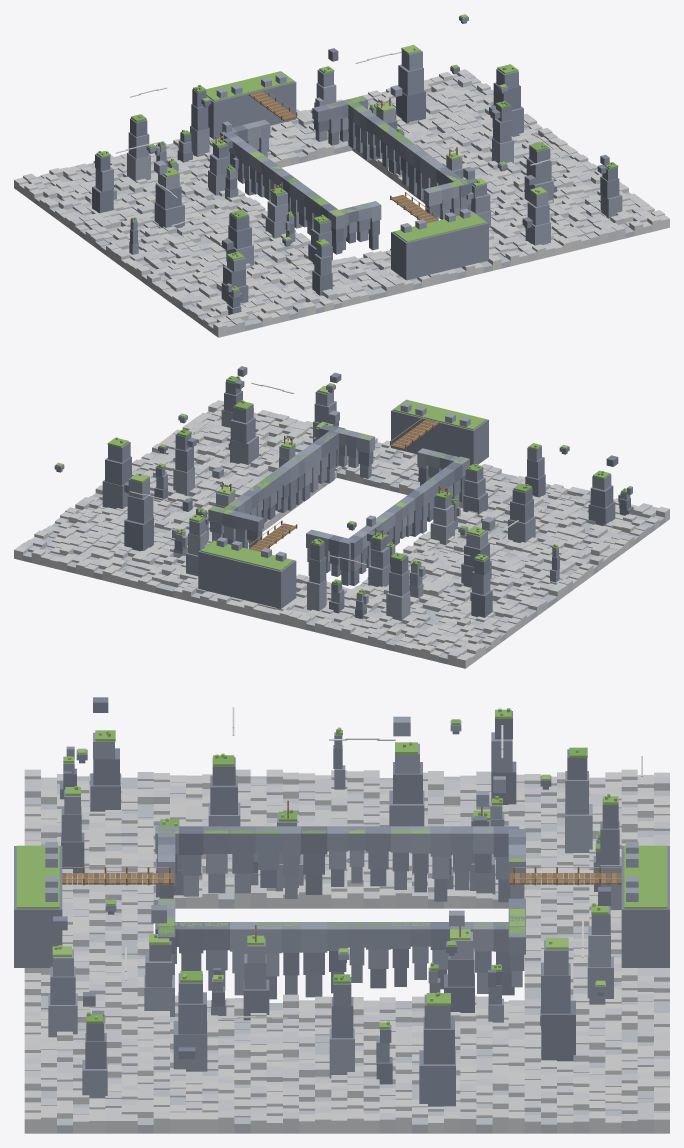
File: windswept_cliffs_outer_arena_roblox.glb
The picture shows the model from 3 angles, top to bottom: view 1: azimuth 30°, elevation 25°; view 2: azimuth 150°, elevation 25°; view 3: azimuth 270°, elevation 25°; orthographic projection. The views are drawn at different scales.
Visible parts, largest first — view 1: CloudSW_001, Cliff, CloudNW_001, CloudSE_001, CloudNE_001, Plateau_002, Plateau_001, Spire_010, Spire_011, Spire_016, Spire_007, Spire_018 (+16 smaller); view 2: CloudNW_001, Cliff, CloudSW_001, CloudNE_001, CloudSE_001, Plateau_001, Plateau_002, Spire_010, Spire_018, Spire_014, Spire_007, Spire_013 (+17 smaller); view 3: CloudSE_001, CloudNE_001, Cliff, CloudSW_001, CloudNW_001, Plateau_001, Plateau_002, Spire_010, Spire_018, Spire_014, Spire_011, Spire_007 (+20 smaller).
Part boxes in pixels (box(x1,y1,x2,y2)): CloudSW_001: box(116, 218, 439, 337); Cliff: box(220, 96, 477, 254); CloudNW_001: box(14, 137, 281, 262); CloudSE_001: box(408, 144, 669, 283); CloudNE_001: box(269, 69, 567, 191); Plateau_002: box(391, 208, 488, 280); Plateau_001: box(206, 71, 296, 139); Spire_010: box(396, 45, 425, 123); Spire_011: box(154, 160, 184, 228); Spire_016: box(522, 175, 550, 245); Spire_007: box(127, 114, 150, 181); Spire_018: box(489, 64, 523, 136); CloudNW_001: box(244, 545, 567, 668); Cliff: box(208, 424, 469, 585); CloudSW_001: box(407, 464, 669, 593); CloudNE_001: box(14, 483, 275, 614); CloudSE_001: box(132, 400, 418, 522); Plateau_001: box(198, 537, 296, 608); Plateau_002: box(391, 399, 488, 465); Spire_010: box(124, 473, 153, 551); Spire_018: box(102, 437, 131, 508); Spire_014: box(228, 400, 258, 464); Spire_007: box(386, 552, 410, 623); Spire_013: box(508, 483, 535, 542); CloudSE_001: box(24, 942, 347, 1133); CloudNE_001: box(347, 941, 669, 1133); Cliff: box(155, 826, 525, 999); CloudSW_001: box(24, 769, 347, 946); CloudNW_001: box(347, 769, 669, 943); Plateau_001: box(621, 842, 669, 967); Plateau_002: box(14, 842, 62, 967); Spire_010: box(541, 937, 575, 1061); Spire_018: box(419, 992, 455, 1106); Spire_014: box(173, 971, 207, 1071); Spire_011: box(389, 716, 424, 826); Spire_007: box(565, 747, 592, 853).
Bounding box in the file's own units: 153 × 27.21 × 122.
